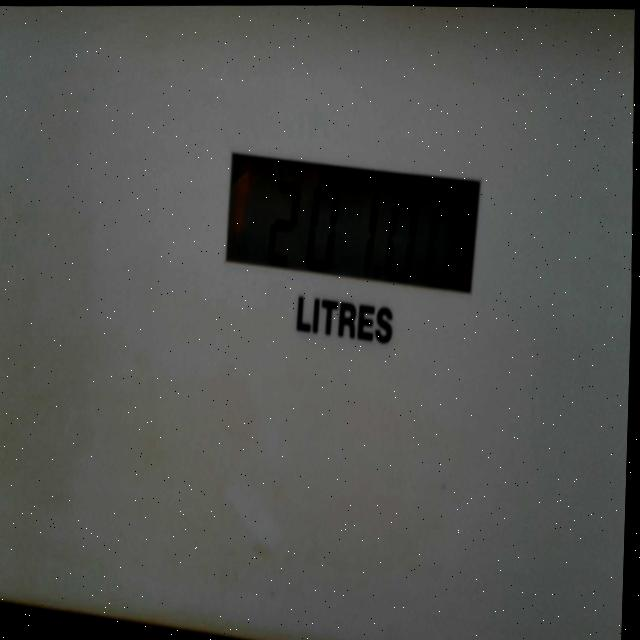.: (372, 257, 382, 280)
0: (304, 172, 345, 277), (383, 186, 423, 287)
1: (353, 186, 383, 280)
2: (264, 171, 303, 270)
